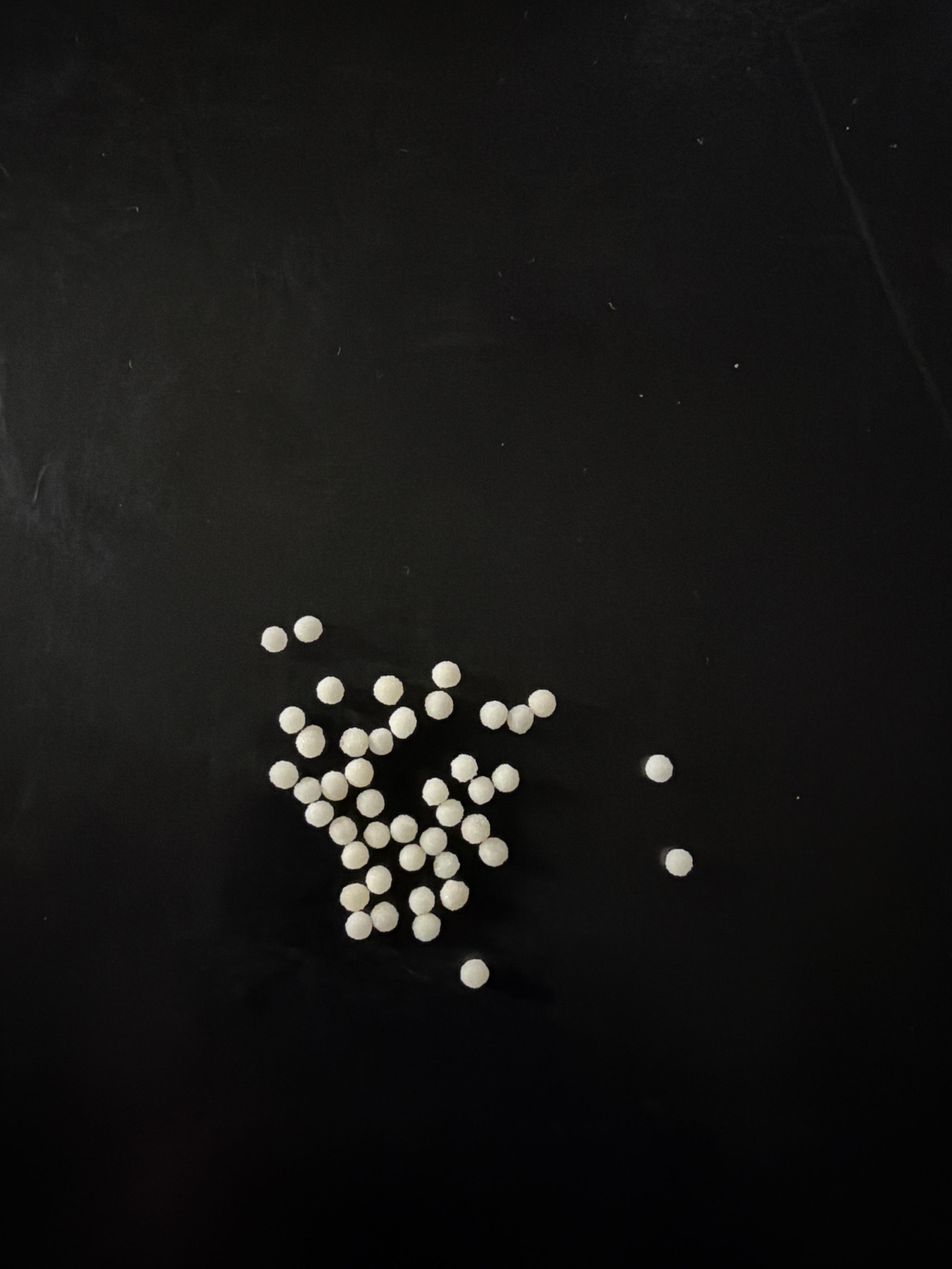pill: (295, 725, 325, 758), (373, 675, 403, 706), (388, 706, 416, 739), (478, 837, 508, 867), (440, 880, 469, 911), (370, 901, 399, 932), (344, 757, 373, 788), (479, 700, 508, 730), (424, 690, 453, 720), (460, 815, 490, 844), (328, 816, 357, 846), (460, 958, 489, 988), (412, 912, 441, 942), (339, 728, 368, 758), (269, 760, 298, 789), (664, 848, 693, 877), (321, 770, 348, 801), (644, 754, 673, 782), (491, 763, 519, 792), (316, 676, 344, 705), (340, 883, 369, 911), (356, 789, 384, 818), (507, 705, 535, 734), (432, 661, 461, 689), (450, 754, 478, 783), (293, 616, 323, 643), (341, 842, 369, 870), (419, 827, 447, 855), (528, 690, 556, 718), (278, 706, 306, 734), (293, 776, 321, 804), (468, 776, 495, 805), (436, 798, 463, 827), (305, 801, 334, 828), (365, 865, 392, 894), (422, 777, 449, 806), (363, 821, 390, 849), (345, 911, 372, 939), (390, 815, 417, 843), (398, 844, 426, 871), (409, 887, 435, 915), (261, 626, 288, 652), (434, 852, 460, 879), (368, 728, 393, 756)
